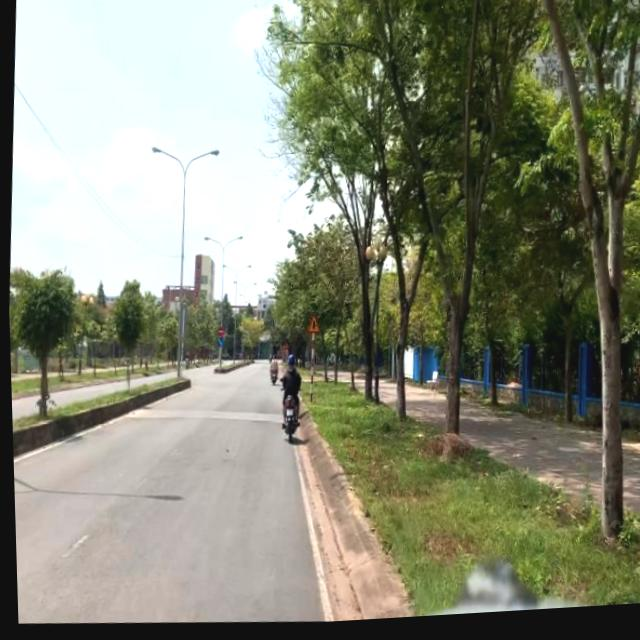Cam di nguoc chieu: (215, 329, 222, 340)
Giao nhau voi duong khong uu tien ben phai: (304, 317, 320, 339)
Vong chuong ngai vat sang phai: (215, 340, 221, 351)
